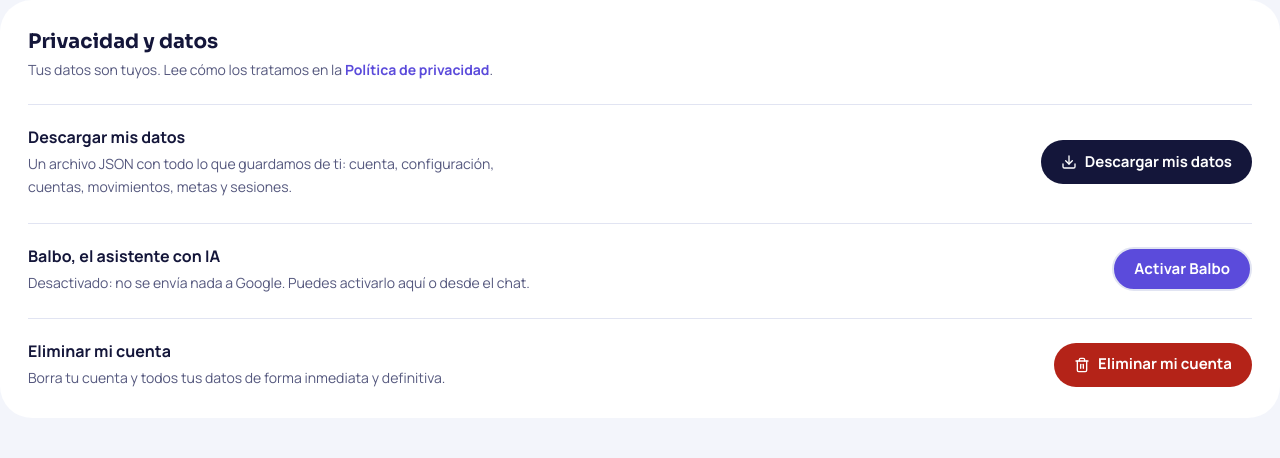
Scenario: PrivacySection › turns Balbo on and off
Click the button "Activar Balbo": {"x": 1182, "y": 269} [1112,247,1252,291]
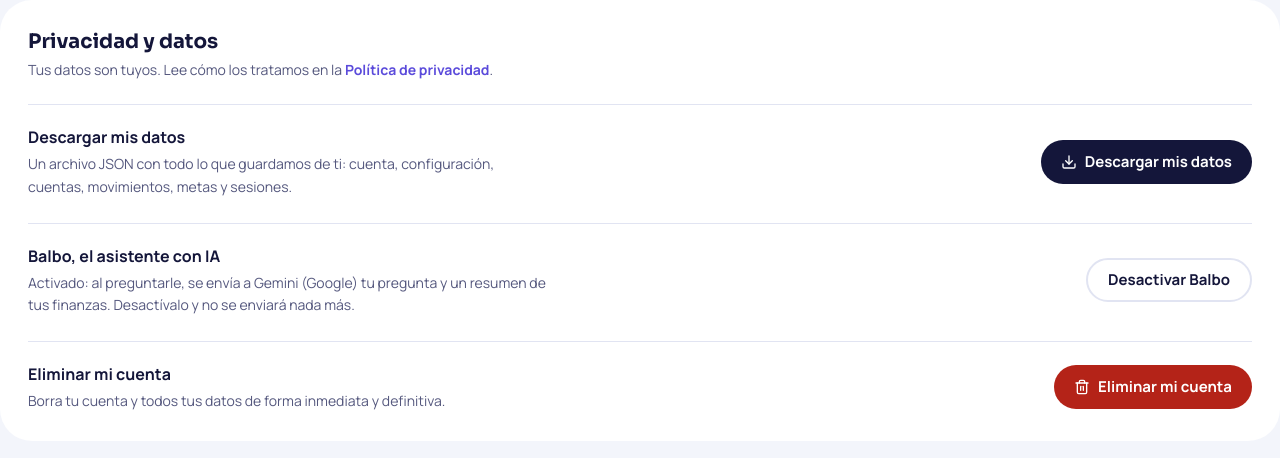
Click the button "Desactivar Balbo": {"x": 1169, "y": 280} [1086,258,1252,302]
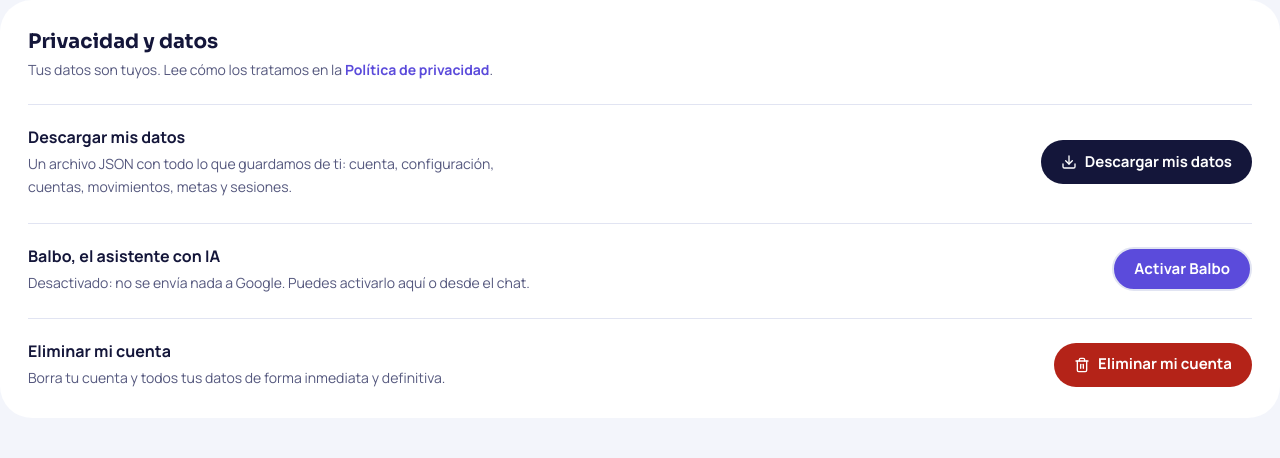
expect the text "Desactivado: no se envía nada" is shown: met, box [28,272,530,292]
